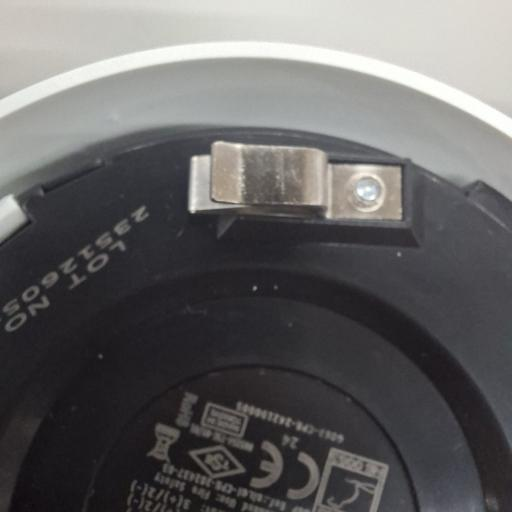yayli: (188, 138, 407, 224)
